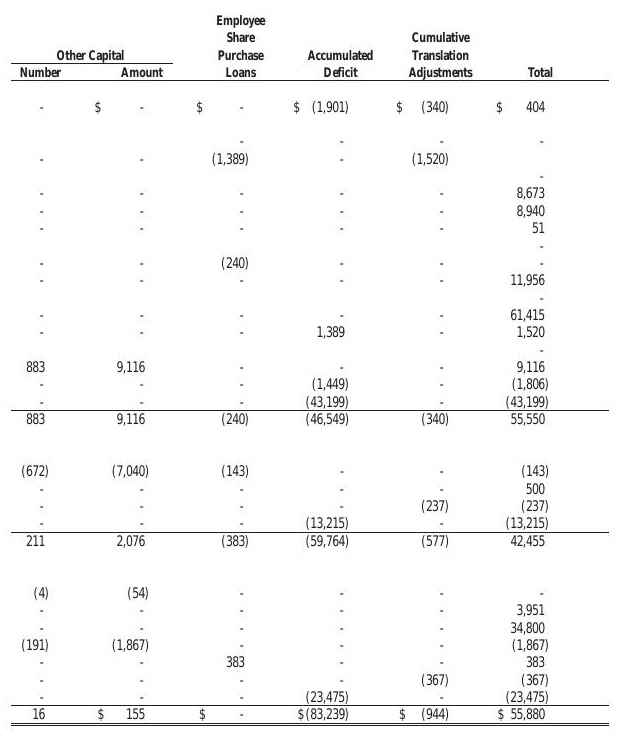table: (0, 0, 624, 737)
